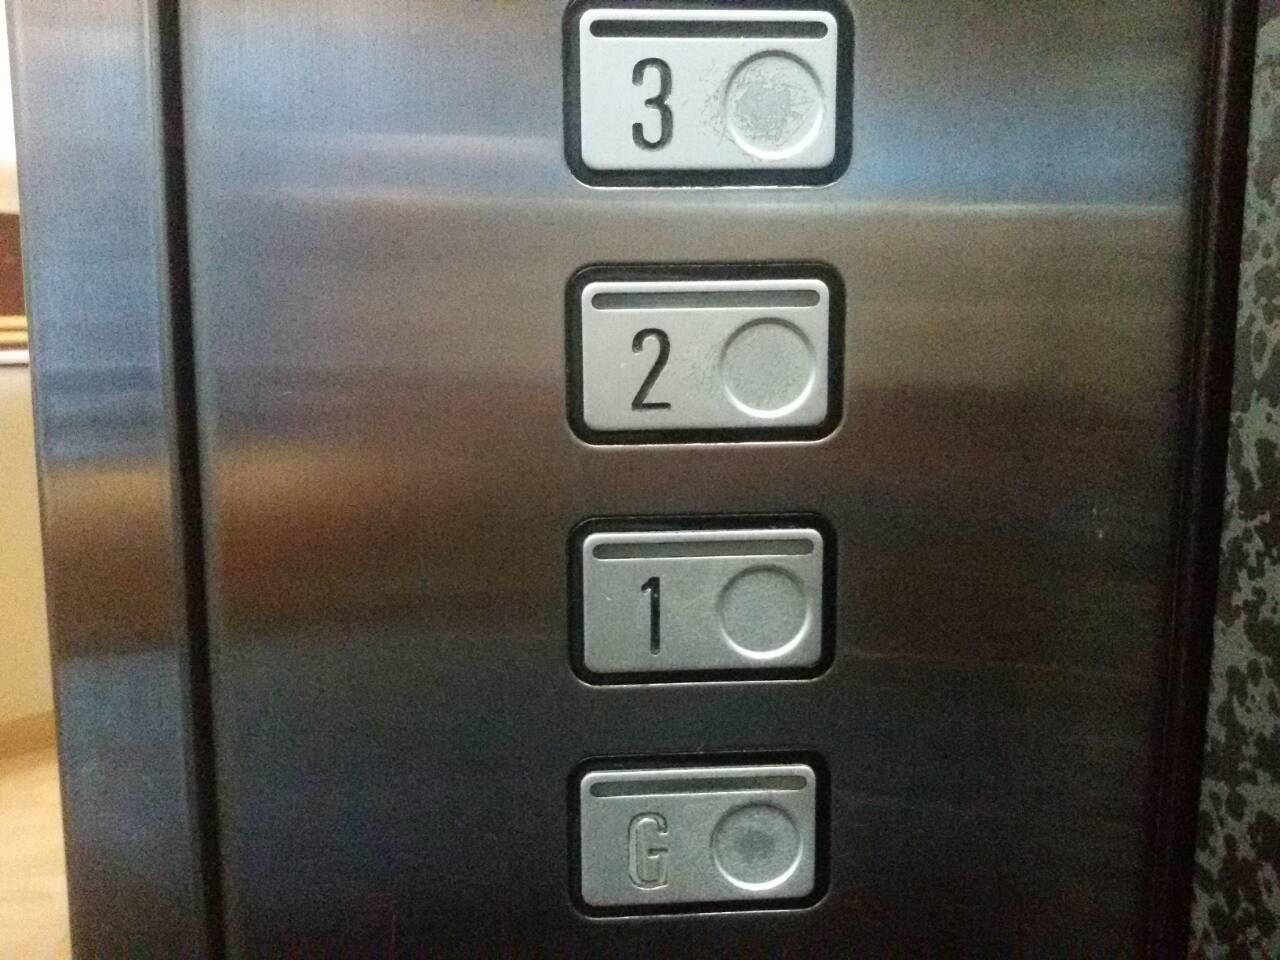1: (561, 507, 841, 688)
2: (557, 256, 850, 448)
3: (561, 1, 860, 195)
G: (562, 746, 836, 924)
